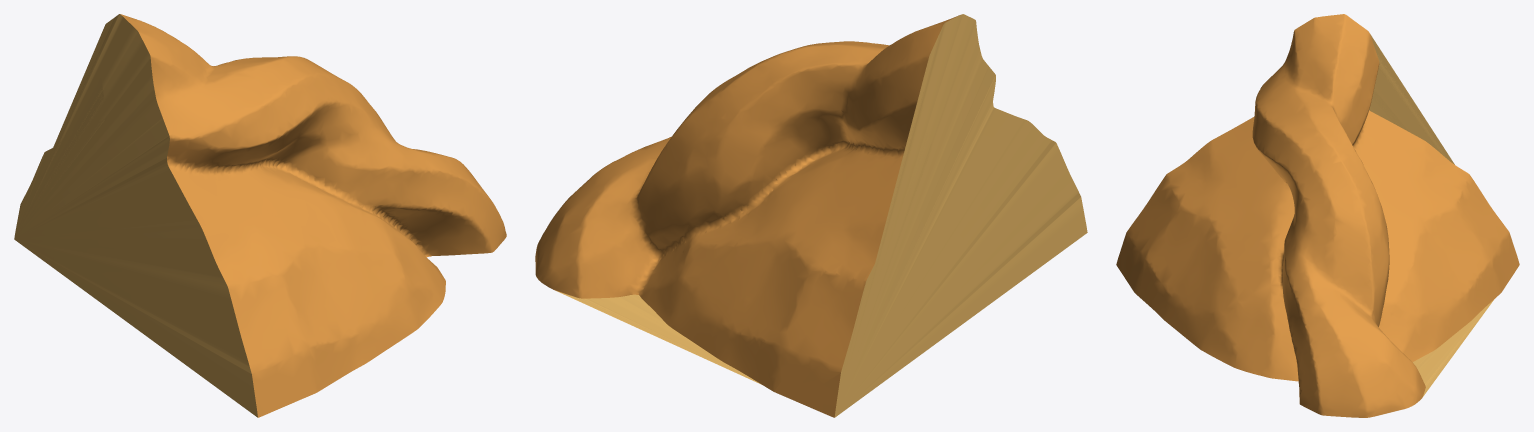
File: Saltena_Piece_06.fbx
3 views of the same model, side by side, from view 1: azimuth 30°, elevation 25°; view 2: azimuth 150°, elevation 25°; view 3: azimuth 270°, elevation 25° (orthographic). The views are drawn at different scales.
Visible parts, largest first — view 1: Saltena_Piece_06; view 2: Saltena_Piece_06; view 3: Saltena_Piece_06.
Boxes of the visible parts, x1,y1,x2,y2 form: Saltena_Piece_06: [14, 14, 506, 417]; Saltena_Piece_06: [535, 14, 1087, 417]; Saltena_Piece_06: [1116, 14, 1519, 417].
Size of the model in its own units: 45.46 by 34.69 by 50.59.
